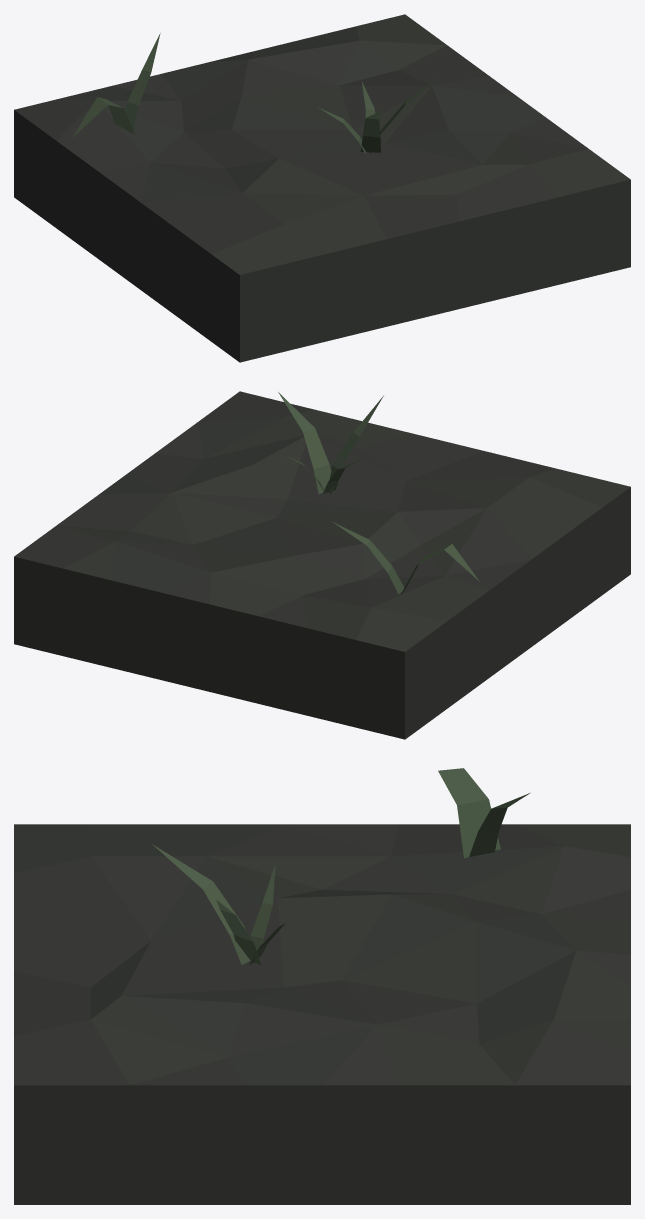
The model's file is NodeGrass.fbx.
The picture shows the model from 3 angles, top to bottom: view 1: azimuth 30°, elevation 25°; view 2: azimuth 150°, elevation 25°; view 3: azimuth 270°, elevation 25°; orthographic projection. The views are drawn at different scales.
Parts seen in each view (by area): view 1: Cube.018; view 2: Cube.018; view 3: Cube.018.
Boxes of the visible parts, x1,y1,x2,y2 form: Cube.018: (14,14,630,362); Cube.018: (14,391,630,739); Cube.018: (14,768,630,1204).
Bounding box in the file's own units: 204 × 82.58 × 200.
